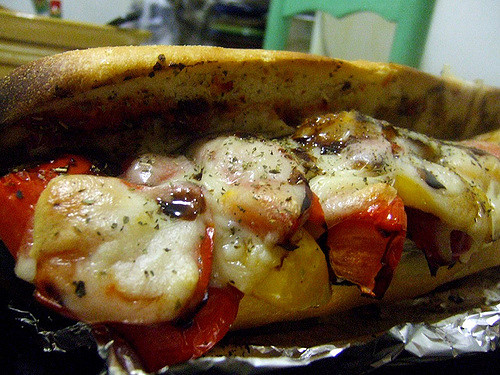slice of bread: (8, 31, 499, 148)
